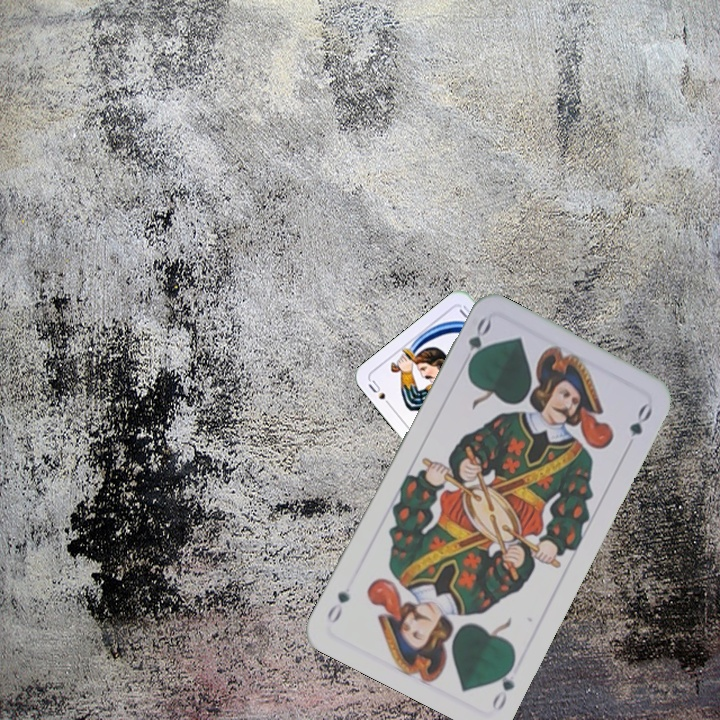GO: (459, 314, 494, 372), (487, 655, 518, 714)
SU: (364, 376, 395, 411)
